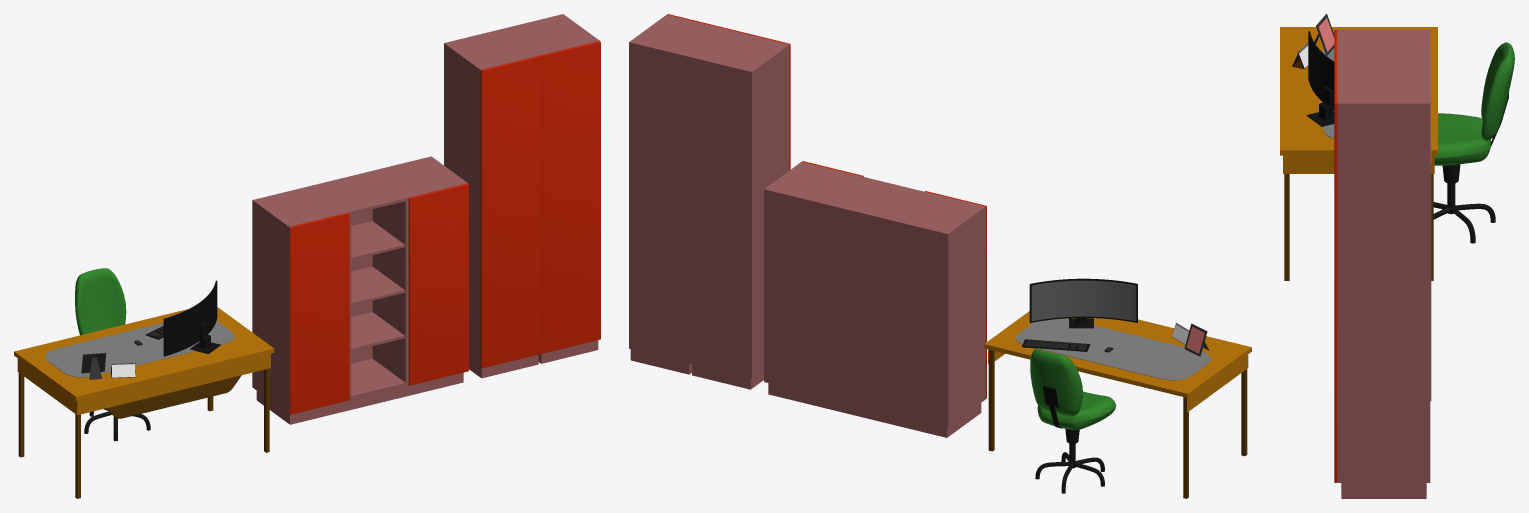
Rendered from ofis-masa-sandalye-dolaplar.fbx.
The picture shows the model from 3 angles, left to right: view 1: azimuth 30°, elevation 25°; view 2: azimuth 150°, elevation 25°; view 3: azimuth 270°, elevation 25°; orthographic projection. The views are drawn at different scales.
Visible parts, largest first — view 1: uzundolap, Box064, kısadolap, Box065, Box049, masaortusu, ChamferBox002, Box056, Box054; view 2: Box064, Box065, Box049, masaortusu, Box056, ChamferBox002, ChamferBox001, Box053; view 3: Box065, Box049, ChamferBox001, ChamferBox002, uzundolap, Box056, Box064, Box052, Box057, Cylinder019, Box061, Box053 (+1 smaller).
Boxes of the visible parts, bbox=[...] form: uzundolap: bbox=[480, 41, 600, 368]; Box064: bbox=[252, 156, 467, 424]; kısadolap: bbox=[289, 183, 468, 414]; Box065: bbox=[444, 14, 599, 378]; Box049: bbox=[14, 307, 274, 415]; masaortusu: bbox=[45, 321, 234, 377]; ChamferBox002: bbox=[75, 268, 126, 335]; Box056: bbox=[163, 280, 217, 356]; Box054: bbox=[105, 375, 241, 418]; Box064: bbox=[764, 161, 985, 437]; Box065: bbox=[629, 14, 789, 389]; Box049: bbox=[984, 311, 1251, 412]; masaortusu: bbox=[1016, 318, 1210, 380]; Box056: bbox=[1029, 278, 1137, 322]; ChamferBox002: bbox=[1030, 349, 1082, 415]; ChamferBox001: bbox=[1037, 391, 1116, 429]; Box053: bbox=[988, 349, 994, 451]; Box065: bbox=[1337, 29, 1430, 498]; Box049: bbox=[1280, 27, 1437, 173]; ChamferBox001: bbox=[1434, 113, 1490, 165]; ChamferBox002: bbox=[1481, 42, 1514, 140]; uzundolap: bbox=[1334, 30, 1337, 482]; Box056: bbox=[1308, 31, 1334, 110]; Box064: bbox=[1430, 51, 1431, 401]; Box052: bbox=[1284, 174, 1289, 280]; Box057: bbox=[1306, 86, 1334, 126]; Cylinder019: bbox=[1442, 164, 1460, 214]; Box061: bbox=[1316, 14, 1334, 55]; Box053: bbox=[1431, 174, 1433, 280].
Size of the model in its own units: 458 by 249 by 134.
